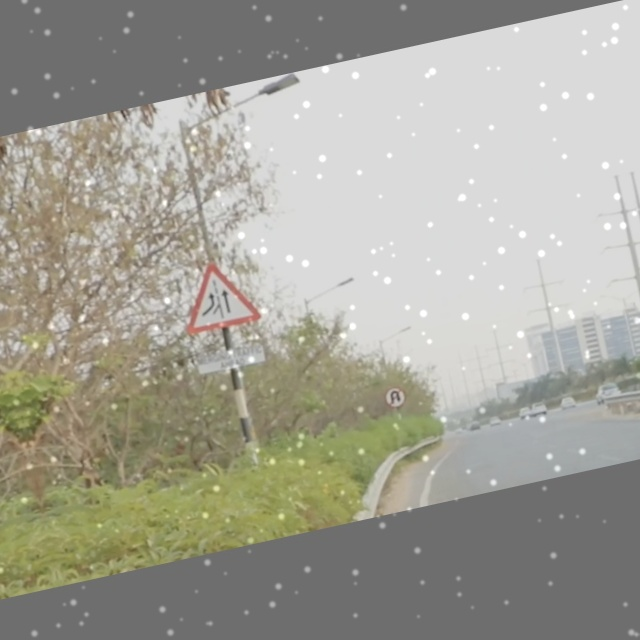Merge_Traffic_Ahead: (166, 243, 266, 341)
